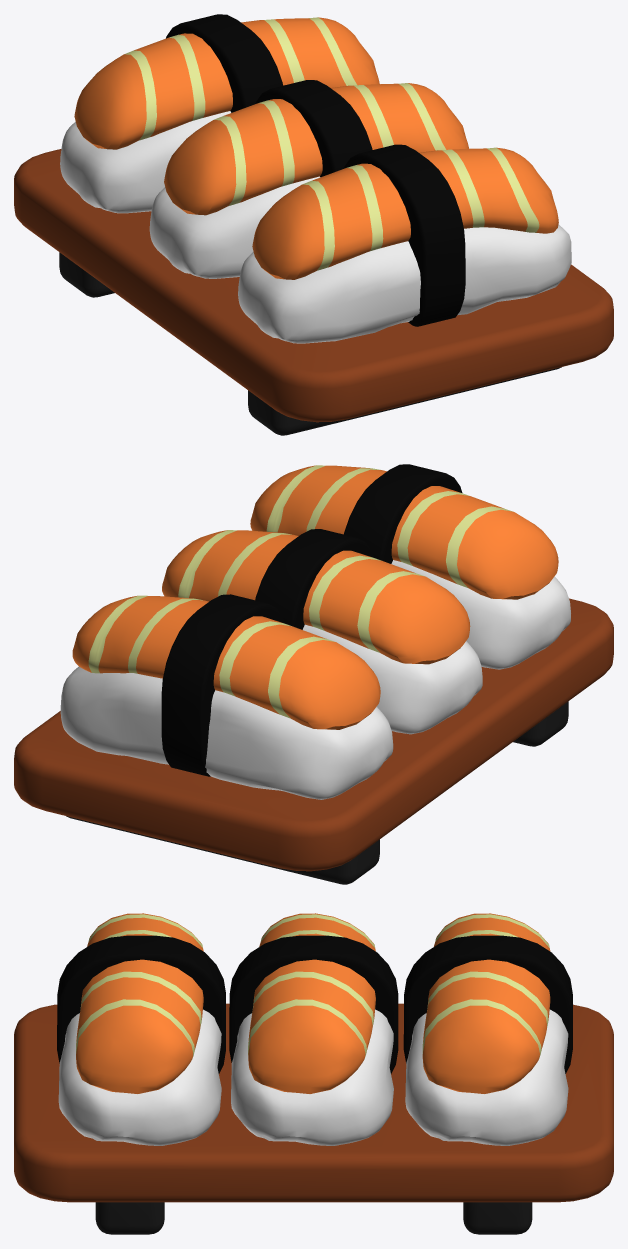
The model's file is sushi.fbx.
3 views of the same model, one above another, from view 1: azimuth 30°, elevation 25°; view 2: azimuth 150°, elevation 25°; view 3: azimuth 270°, elevation 25° (orthographic). The views are drawn at different scales.
Parts seen in each view (by area): view 1: sushiTabagi, sushi1, sushi3, sushi2; view 2: sushi3, sushiTabagi, sushi2, sushi1; view 3: sushiTabagi, sushi2, sushi3, sushi1.
Part boxes in pixels (bbox=[...]): sushiTabagi: bbox=[14, 149, 613, 435]; sushi1: bbox=[238, 144, 571, 343]; sushi3: bbox=[60, 14, 379, 213]; sushi2: bbox=[149, 80, 469, 278]; sushi3: bbox=[60, 594, 393, 799]; sushiTabagi: bbox=[14, 598, 613, 884]; sushi2: bbox=[162, 529, 482, 734]; sushi1: bbox=[250, 464, 570, 669]; sushiTabagi: bbox=[14, 1003, 613, 1234]; sushi2: bbox=[229, 913, 398, 1145]; sushi3: bbox=[403, 913, 572, 1145]; sushi1: bbox=[57, 913, 225, 1145].
Bounding box in the file's own units: 64.34 × 42.35 × 103.
